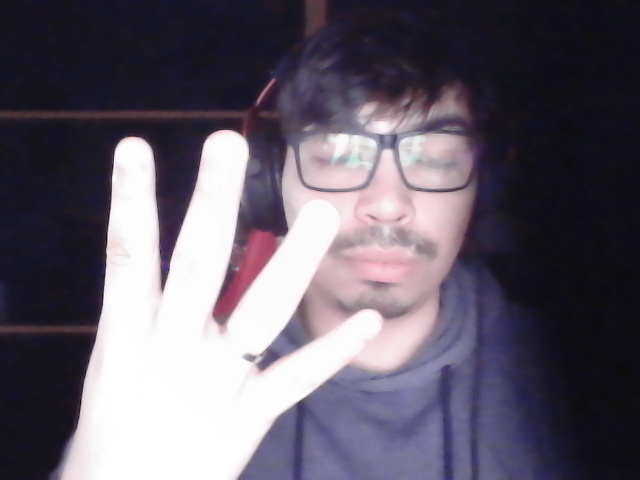four: (51, 126, 390, 480)
